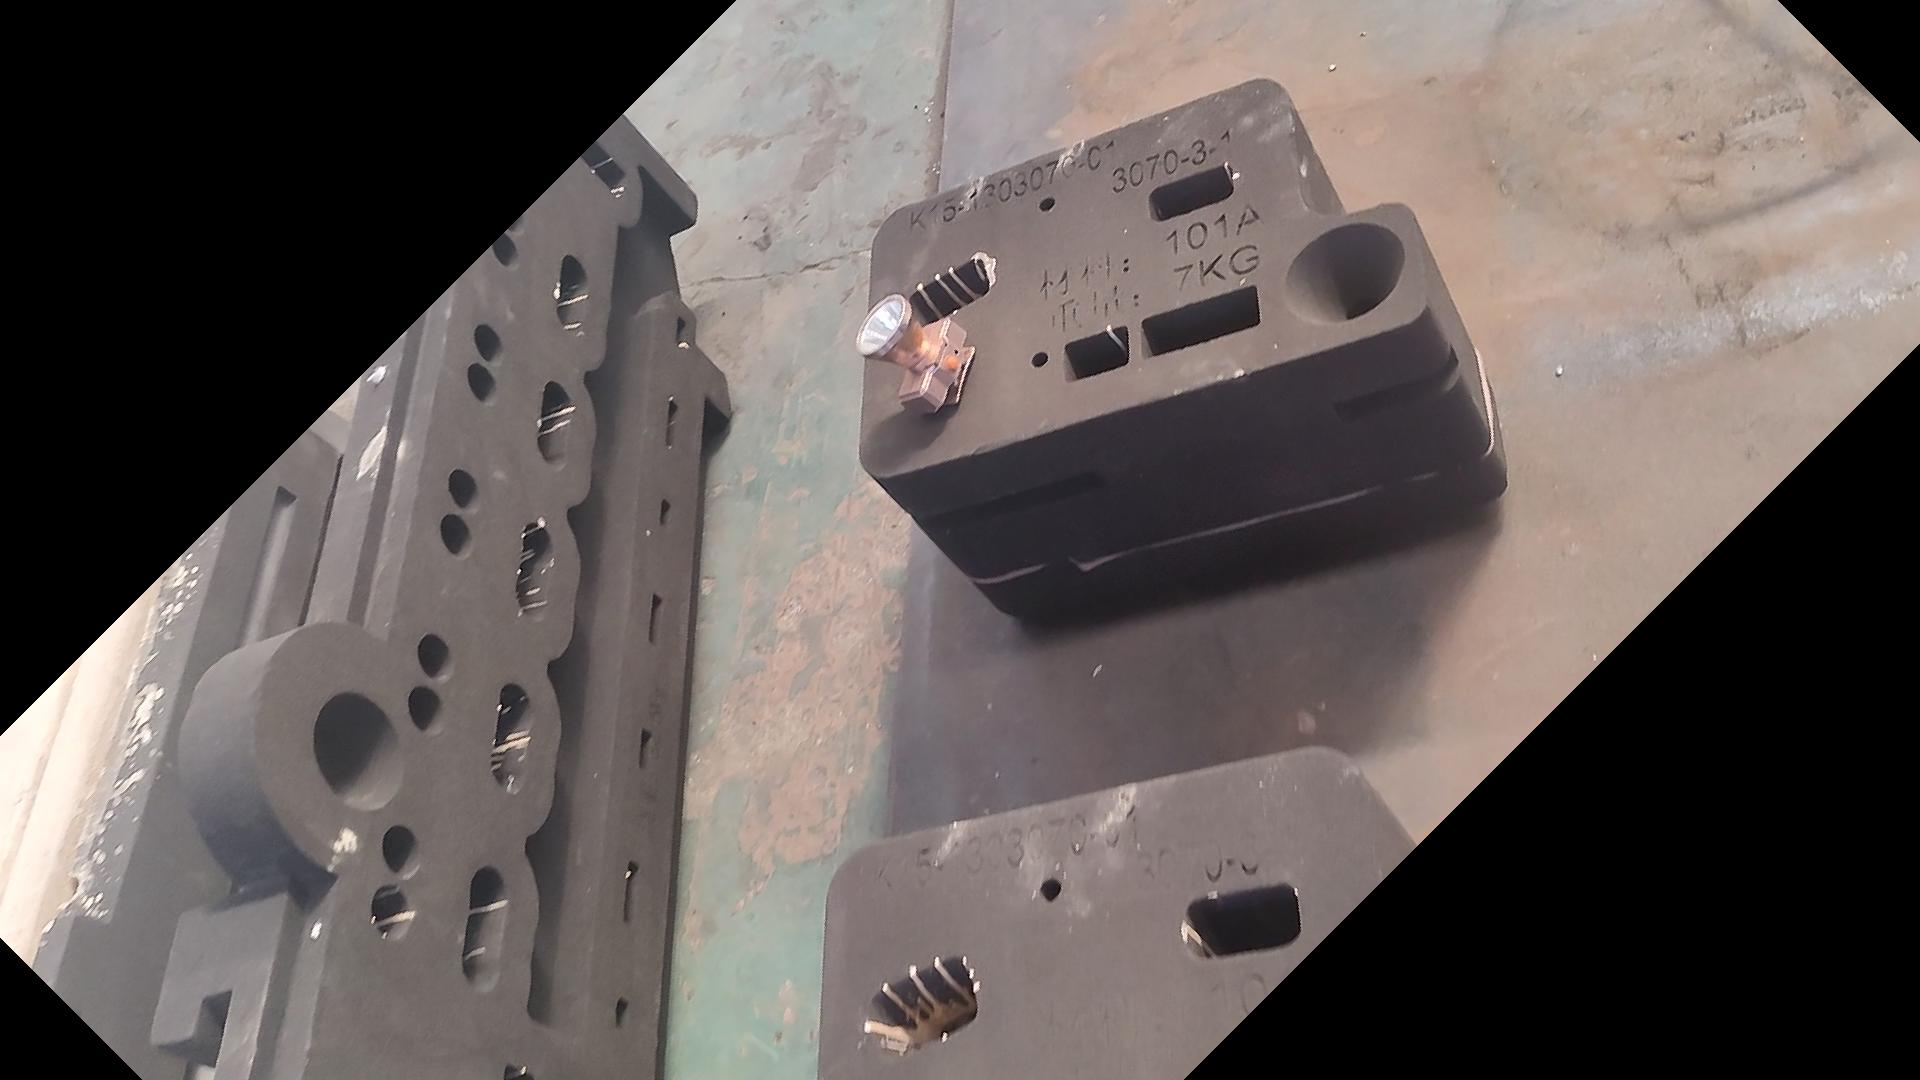pouring hole: (1283, 222, 1404, 324), (315, 691, 402, 811)
